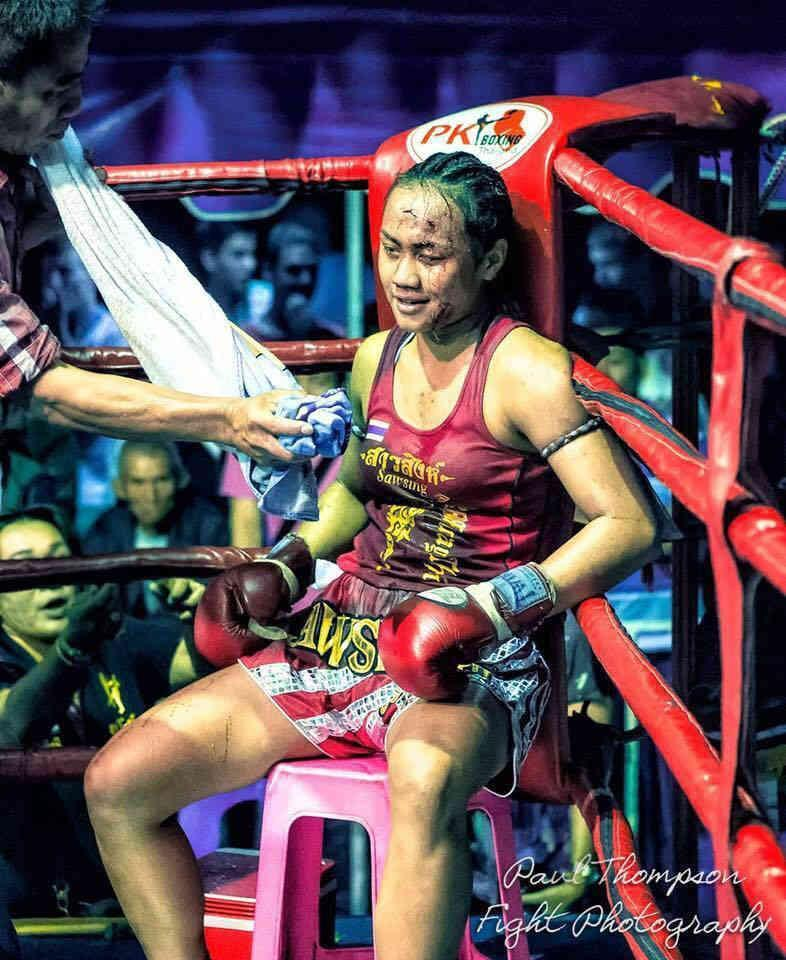Fire: (378, 185, 505, 350)
